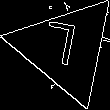L_S: (45, 21, 86, 76)
